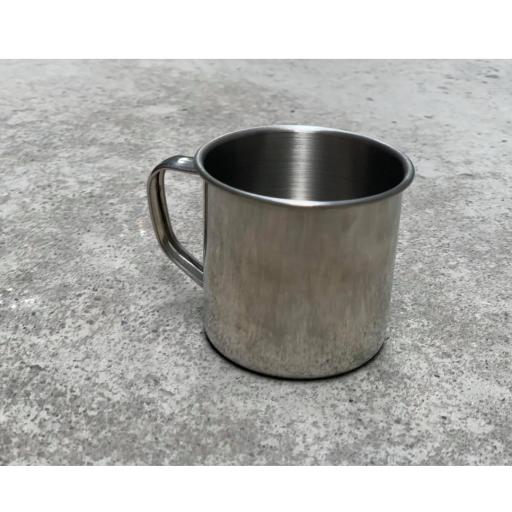cup: (148, 126, 414, 378)
